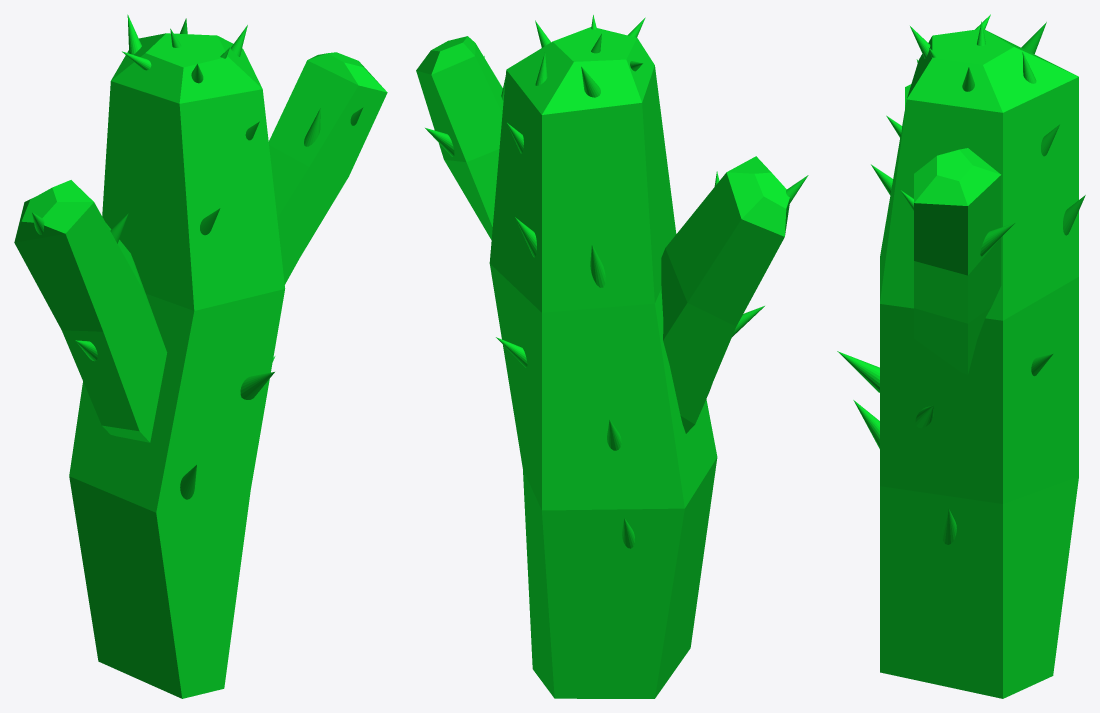
File: kaktus_Z_KOLCAMI_.fbx
3 renders of one model, left to right at view 1: azimuth 30°, elevation 25°; view 2: azimuth 150°, elevation 25°; view 3: azimuth 270°, elevation 25°, orthographic. The views are drawn at different scales.
Visible parts, largest first — view 1: Walec; view 2: Walec; view 3: Walec.
Part boxes in pixels (<box>): Walec: <box>14,14,387,698</box>; Walec: <box>416,15,808,698</box>; Walec: <box>837,14,1085,698</box>.
Bounding box in the file's own units: 389 × 650 × 226.
